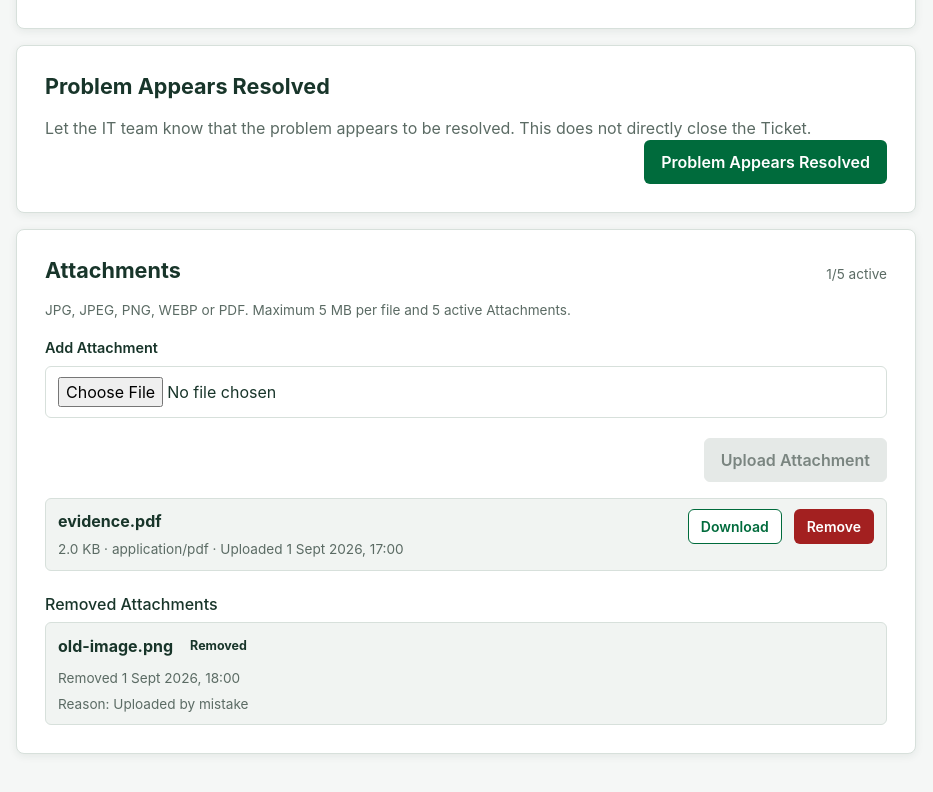
Attachment Section › soft-removes an Attachment with a reason
(page scrolled)
expect the text "evidence.pdf" is shown: met, box x1=58 y1=511 x2=162 y2=531
Click the button with aria-label "remove evidence.pdf" at (834, 527), box x1=794 y1=509 x2=874 y2=544
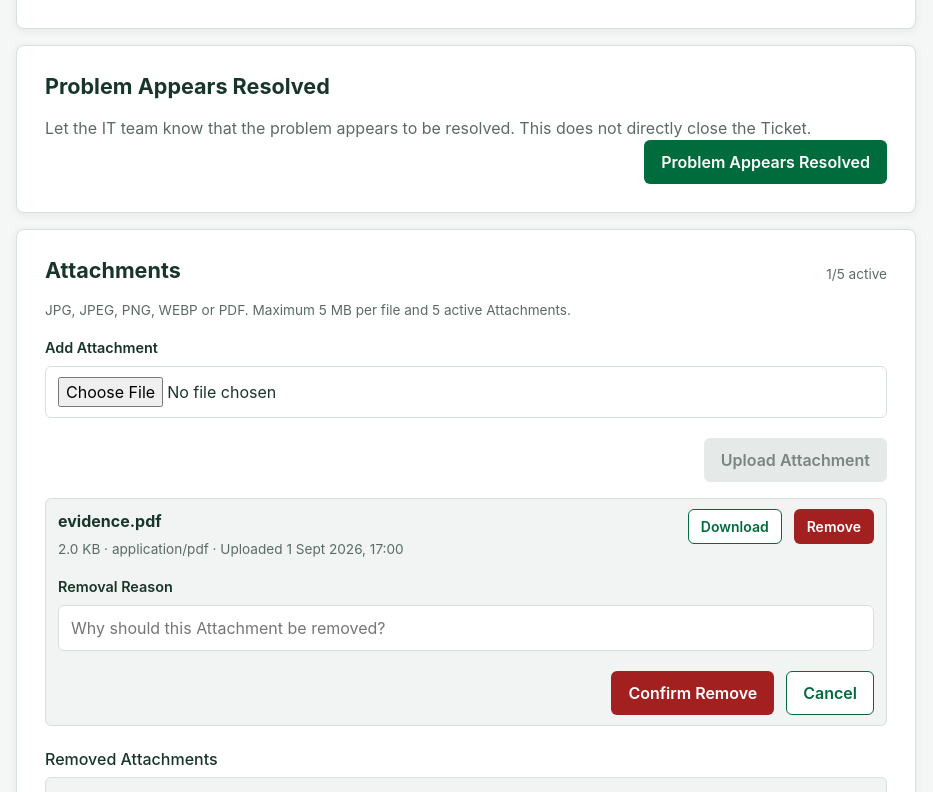
Type "Wrong evidence" into the field labelled "Removal Reason" at (466, 628), box x1=58 y1=605 x2=874 y2=651
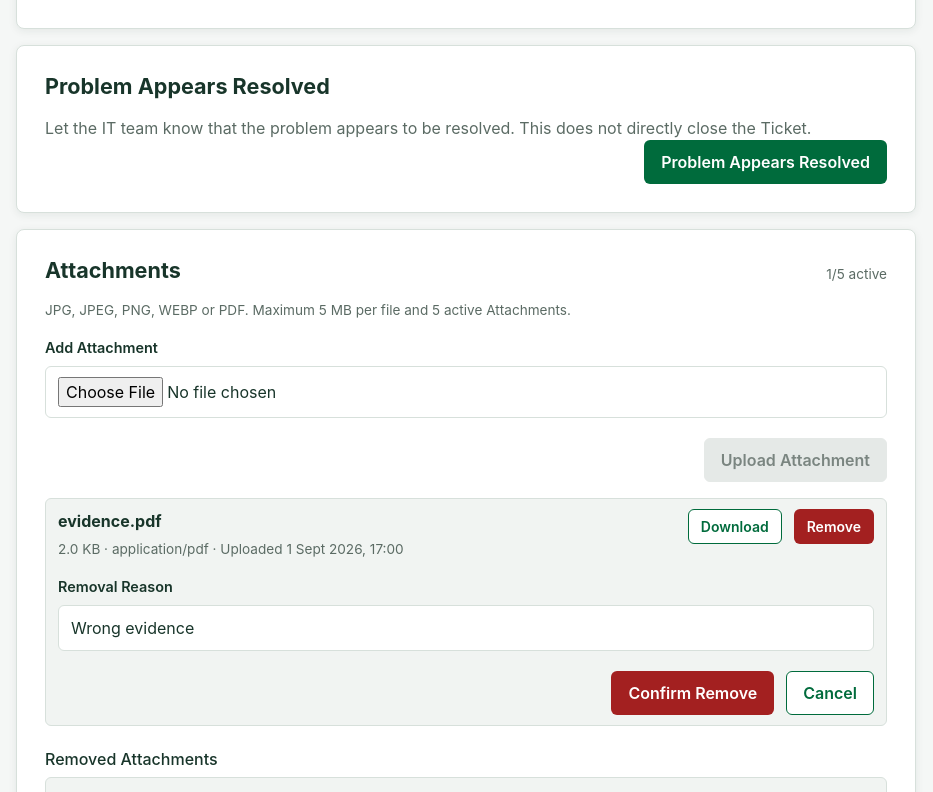
Click the button "Confirm Remove" at (693, 693), box x1=611 y1=671 x2=774 y2=715
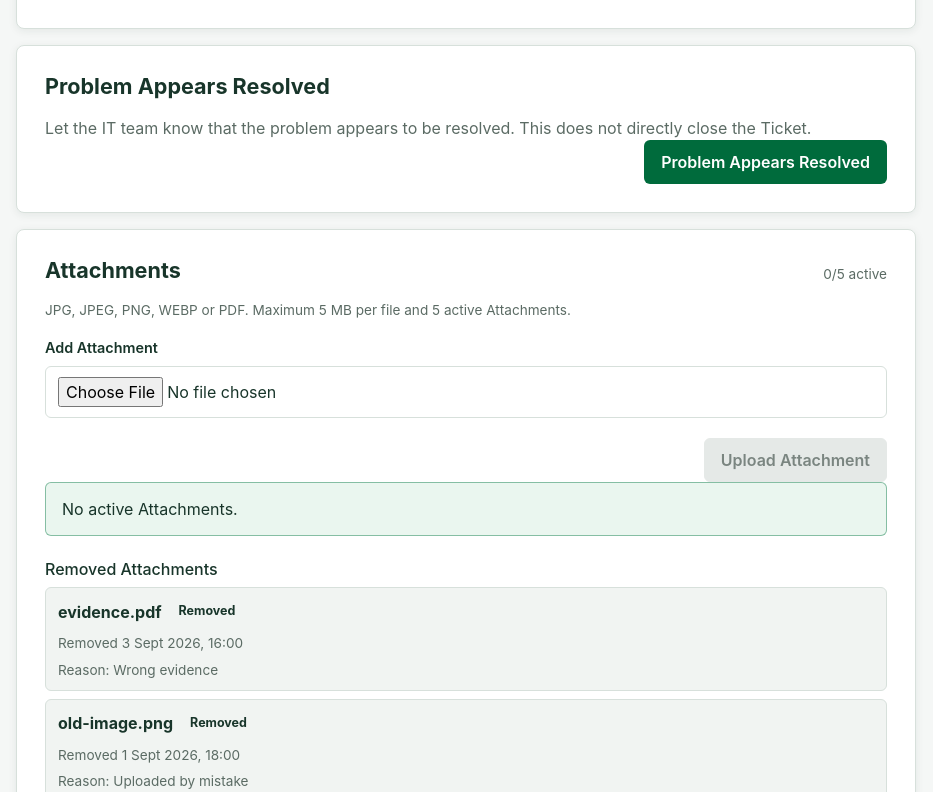
expect the text "Reason: Wrong evidence" is shown: met, box x1=58 y1=662 x2=218 y2=678
